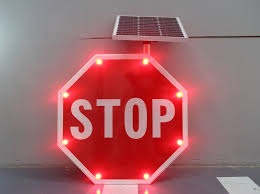SS: (58, 57, 185, 185)
